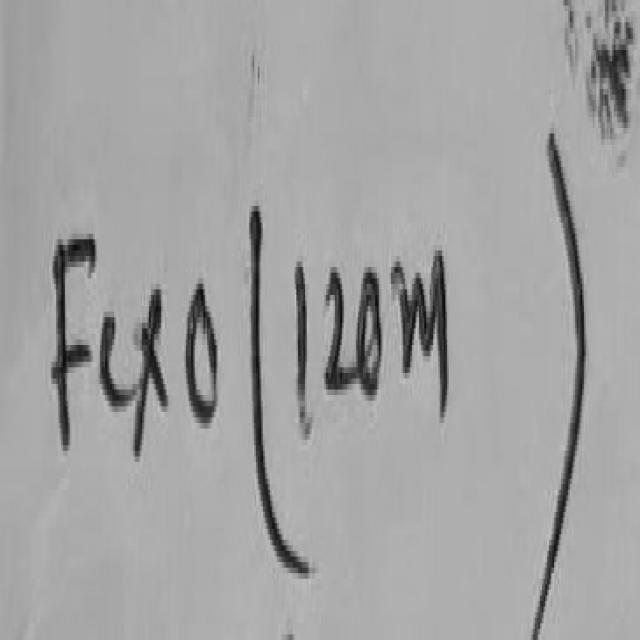0: (355, 273, 382, 393)
1: (290, 255, 306, 433)
2: (326, 267, 355, 398)
F: (51, 239, 94, 448)
e: (100, 317, 139, 406)
m: (393, 250, 449, 415)
o: (186, 284, 217, 420)
x: (133, 289, 171, 454)
